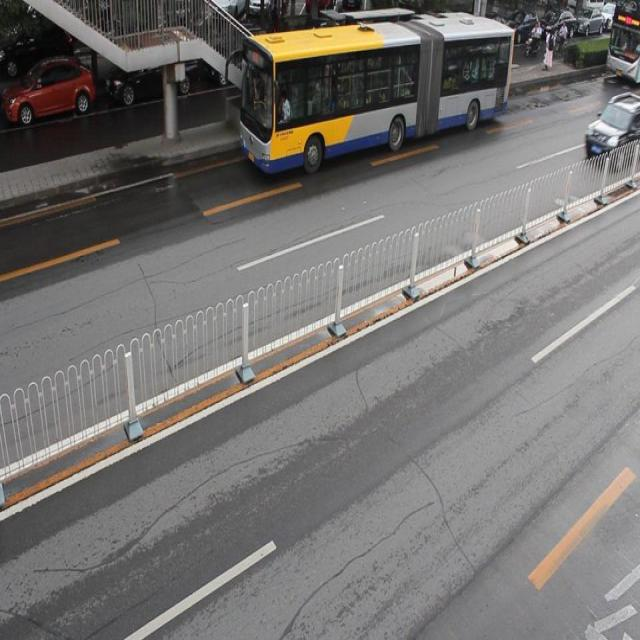car: (1, 56, 92, 124), (103, 41, 193, 101), (582, 91, 640, 169), (205, 26, 271, 90), (289, 24, 358, 79)
van: (239, 10, 511, 170), (603, 1, 640, 82)
